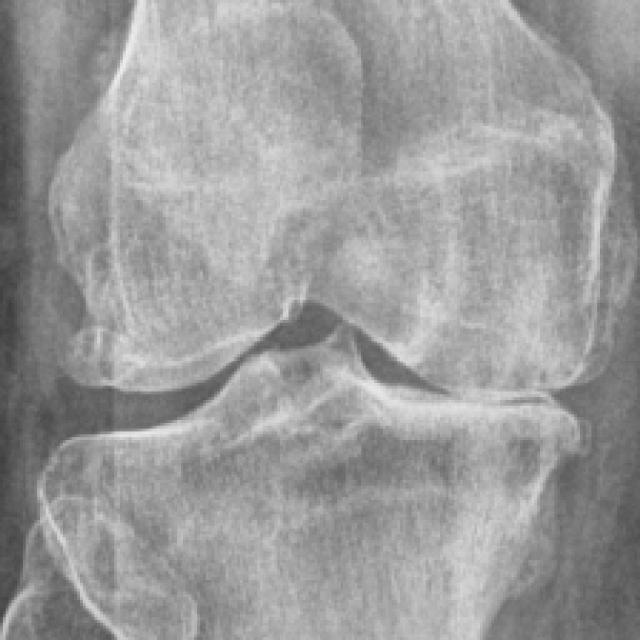femur: (48, 0, 616, 402)
tibia: (37, 322, 580, 640)
